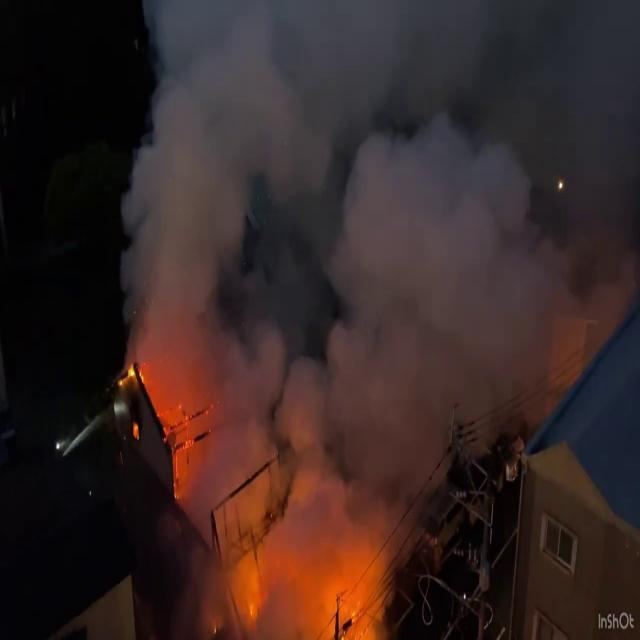Smoke: (111, 0, 638, 611)
